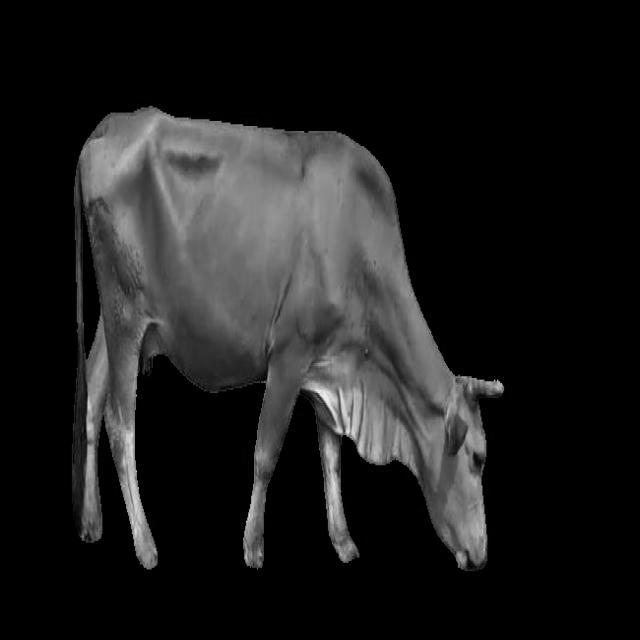cow: (72, 108, 502, 570)
